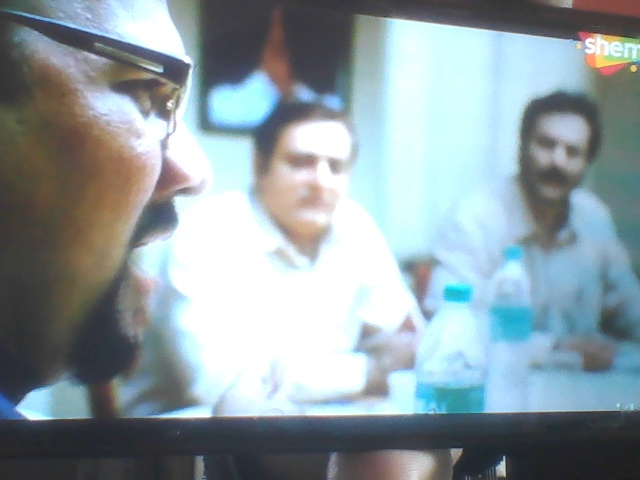fake: (254, 89, 364, 245)
